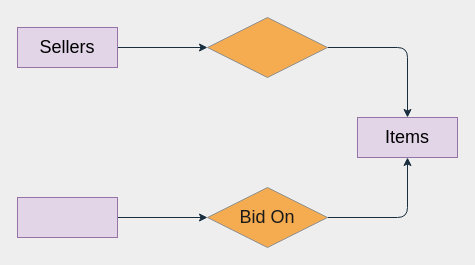
The diagram is 475 pixels wide and 265 high, and some of its shapes have lost their labels. The centre of each missing label's shape, as x and y in pixels:
Sells: pixel 267 47
Users: pixel 67 217
